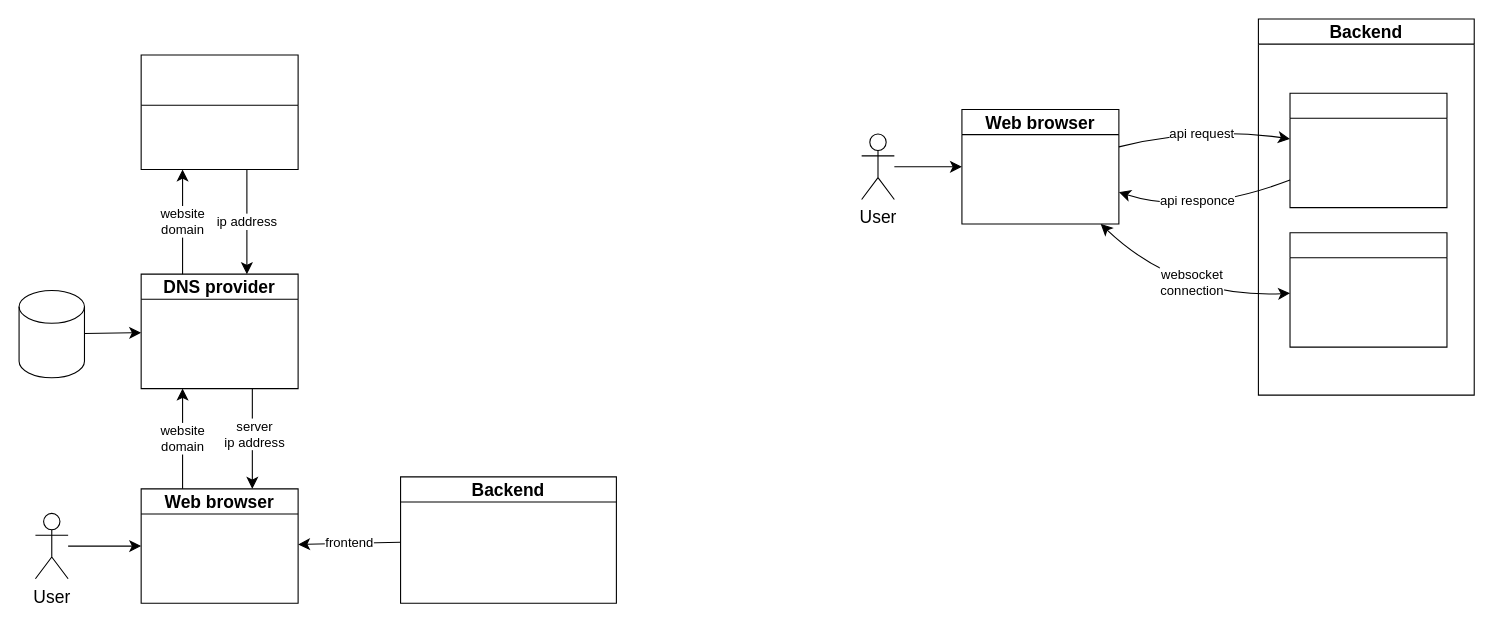
Image size: 1493x626. Some labels were removed from this diagram. Each missing label, with the box of its shape:
async service: (1289, 232, 1447, 347)
cache: (18, 289, 84, 378)
domain zone server: (140, 54, 298, 169)
sync service: (1289, 92, 1447, 208)
